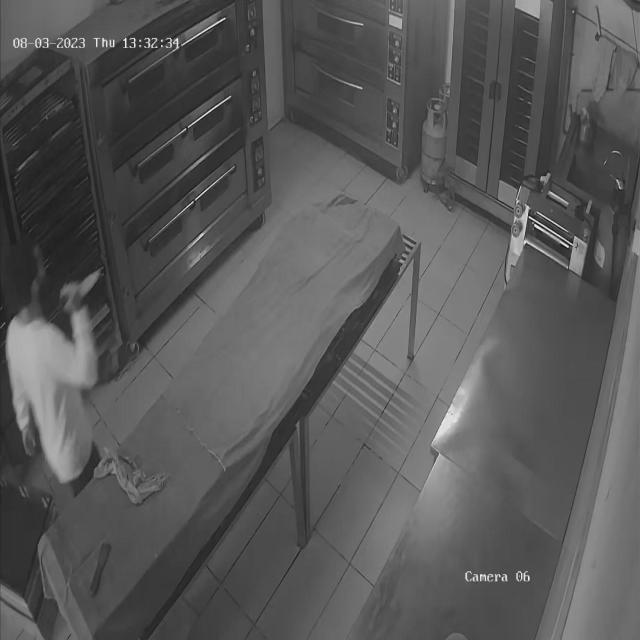Knife: (67, 259, 111, 308)
